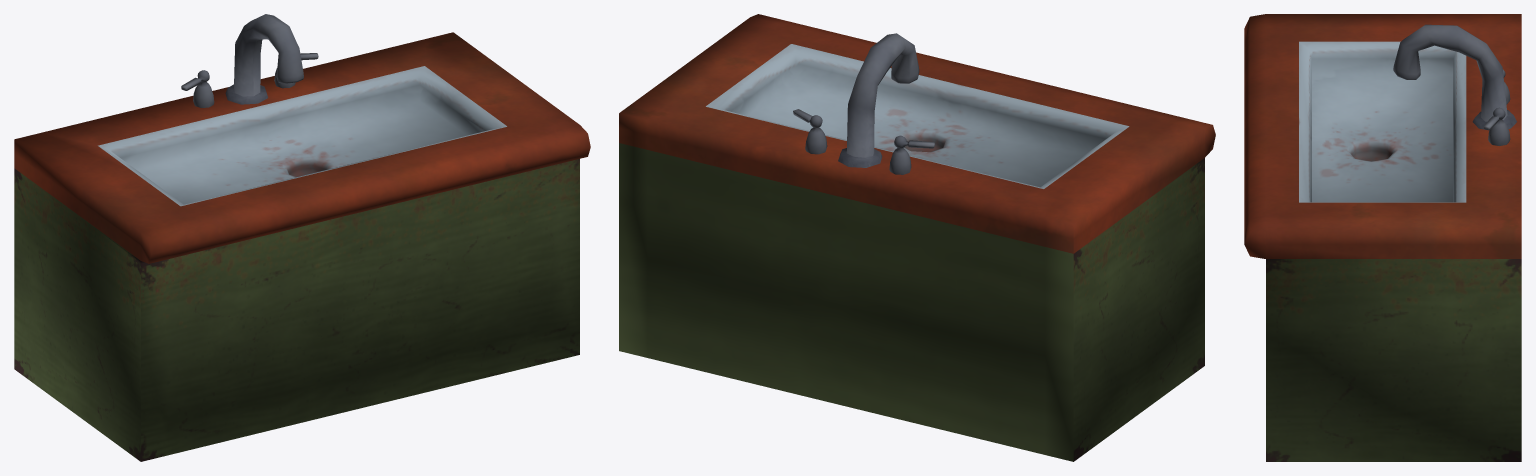
Rendered from Pia.fbx.
The picture shows the model from 3 angles, left to right: view 1: azimuth 30°, elevation 25°; view 2: azimuth 150°, elevation 25°; view 3: azimuth 270°, elevation 25°; orthographic projection. The views are drawn at different scales.
Parts seen in each view (by area): view 1: Pia; view 2: Pia; view 3: Pia.
Boxes of the visible parts, bbox=[...] form: Pia: bbox=[14, 14, 590, 461]; Pia: bbox=[619, 14, 1215, 461]; Pia: bbox=[1244, 14, 1521, 461].
Size of the model in its own units: 160 by 113 by 86.72.
Materials: 1 (1 with a texture image).
